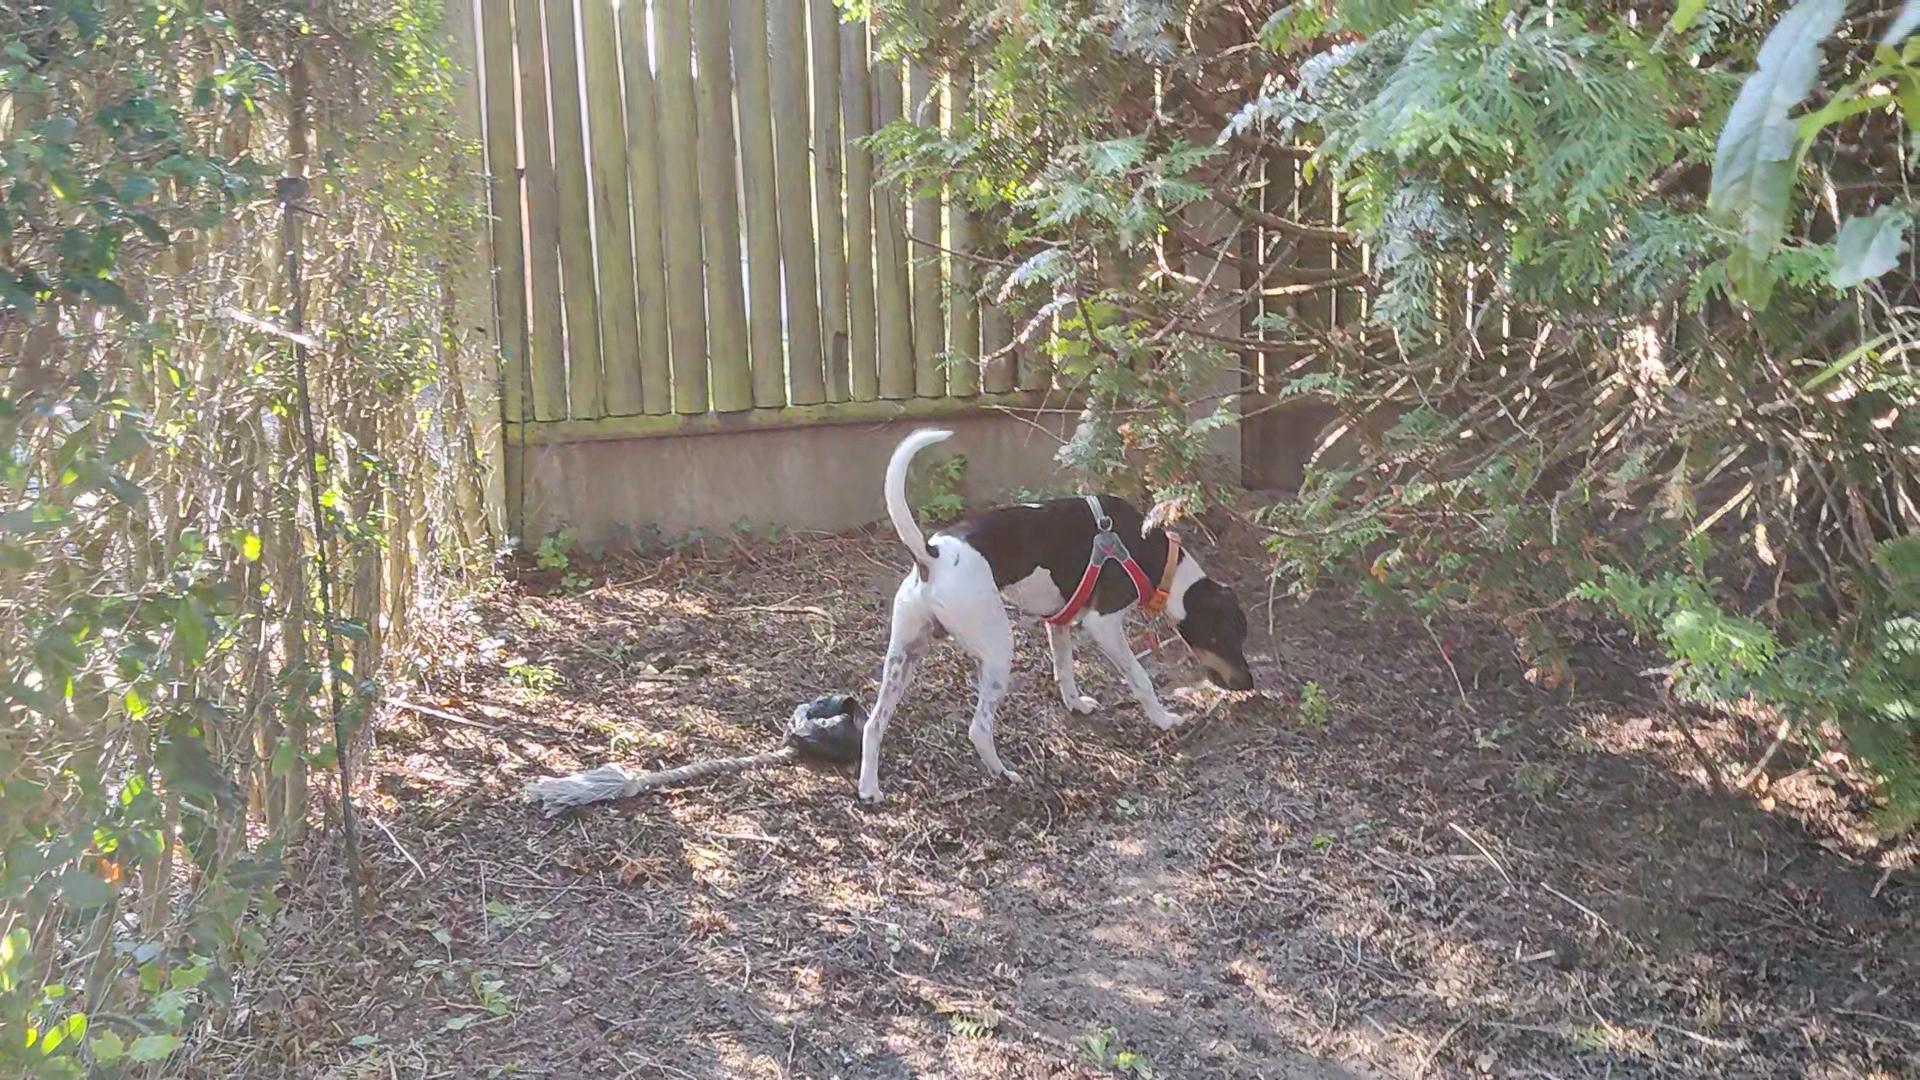Dog: (839, 415, 1257, 811)
